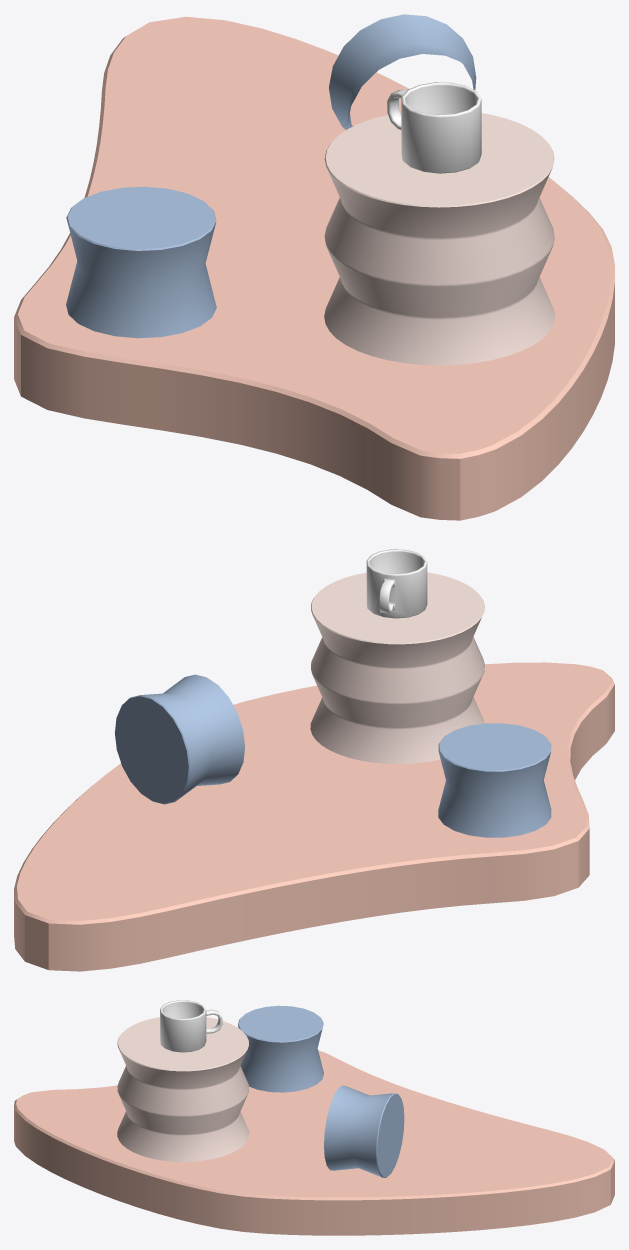
Rendered from coffee-transformed.glb.
3 renders of one model, top to bottom at view 1: azimuth 30°, elevation 25°; view 2: azimuth 150°, elevation 25°; view 3: azimuth 270°, elevation 25°, orthographic. The views are drawn at different scales.
Parts seen in each view (by area): view 1: coffeeBase, coffeeTable, coffeeStools, coffeeCup; view 2: coffeeBase, coffeeTable, coffeeStools, coffeeCup; view 3: coffeeBase, coffeeTable, coffeeStools, coffeeCup.
Part boxes in pixels (x1=…): coffeeBase: x1=14, y1=16, x2=614, y2=520; coffeeTable: x1=324, y1=112, x2=554, y2=365; coffeeStools: x1=66, y1=14, x2=476, y2=338; coffeeCup: x1=387, y1=82, x2=481, y2=173; coffeeBase: x1=14, y1=662, x2=614, y2=971; coffeeTable: x1=310, y1=572, x2=484, y2=763; coffeeStools: x1=115, y1=674, x2=551, y2=837; coffeeCup: x1=366, y1=549, x2=427, y2=618; coffeeBase: x1=14, y1=1050, x2=614, y2=1235; coffeeTable: x1=117, y1=1017, x2=249, y2=1161; coffeeStools: x1=238, y1=1005, x2=404, y2=1177; coffeeCup: x1=160, y1=1000, x2=222, y2=1052.
Size of the model in its own units: 57.09 by 27.66 by 92.9.
